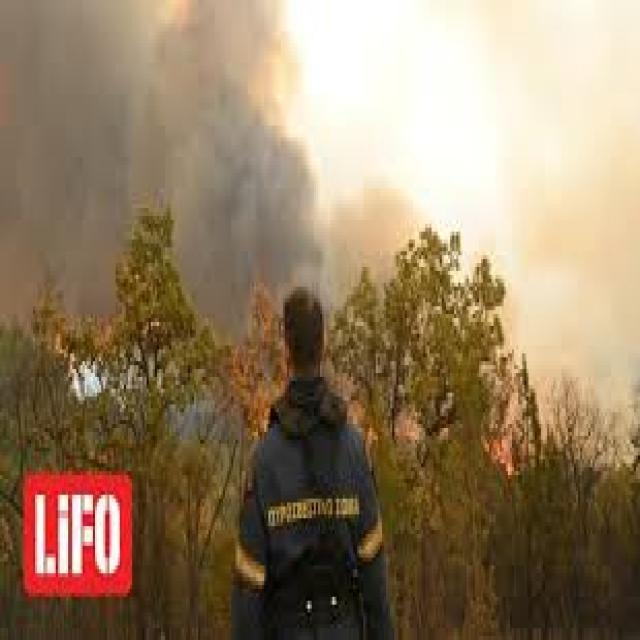Smoke: (0, 0, 318, 200), (176, 0, 328, 279), (0, 0, 112, 281)
